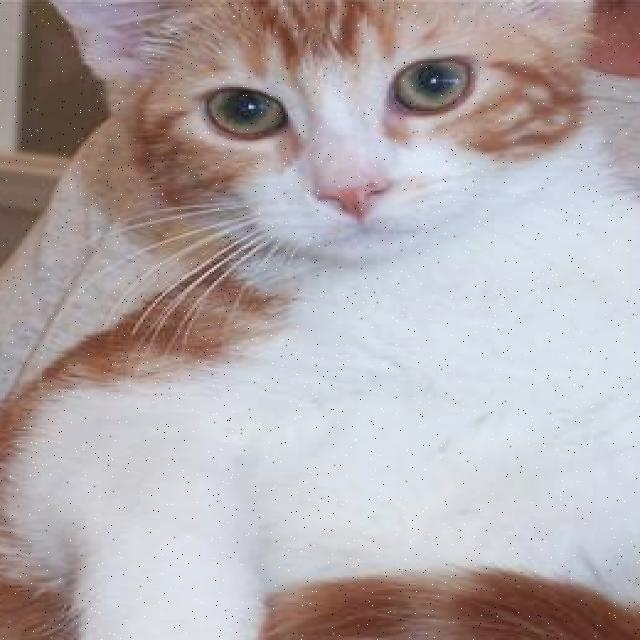Cat: (99, 9, 582, 289)
